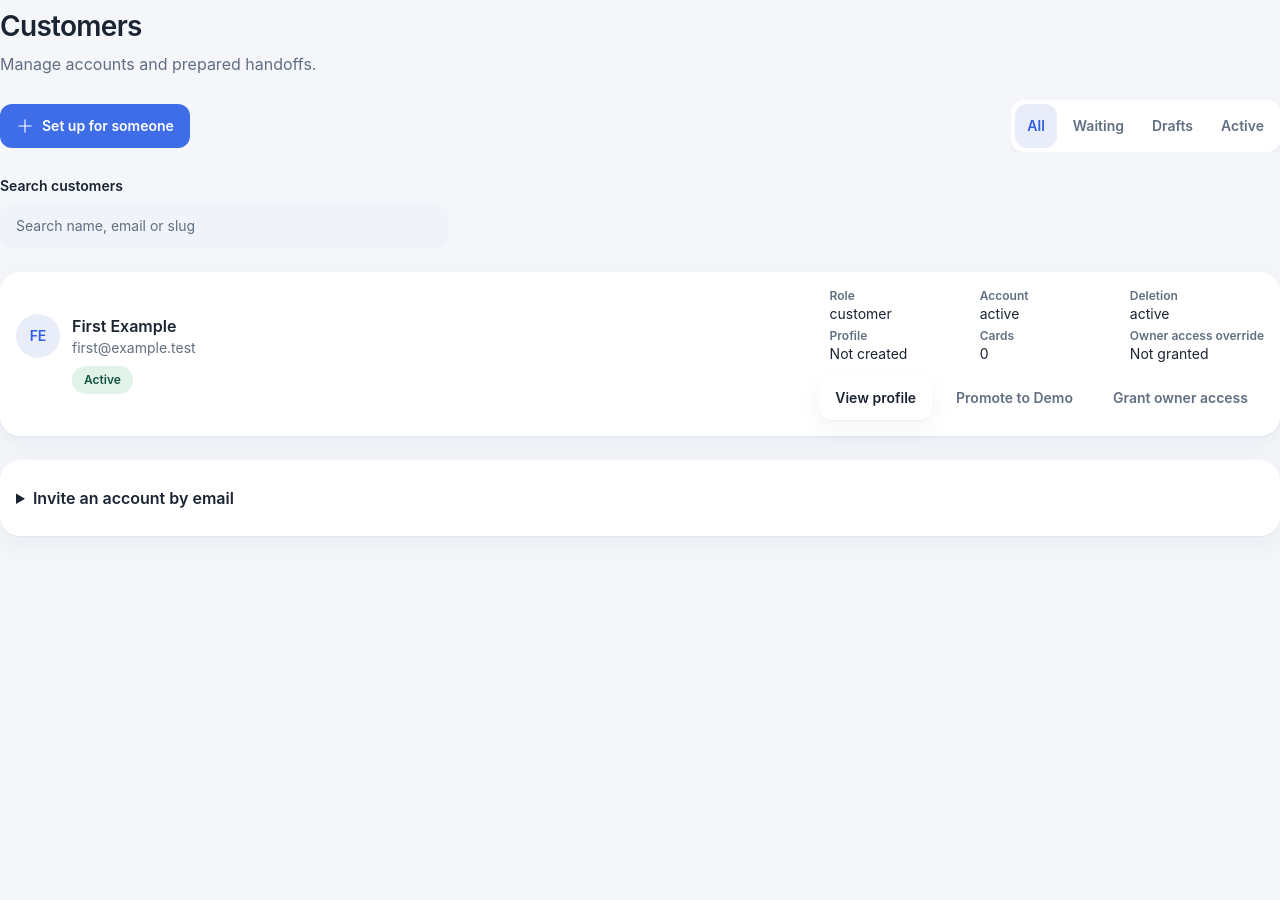
Test: paginated administrator account lists › shows an error when the owner access mutation is rejected
Click the button "Grant owner access": {"x": 1180, "y": 398} [1097,376,1264,420]
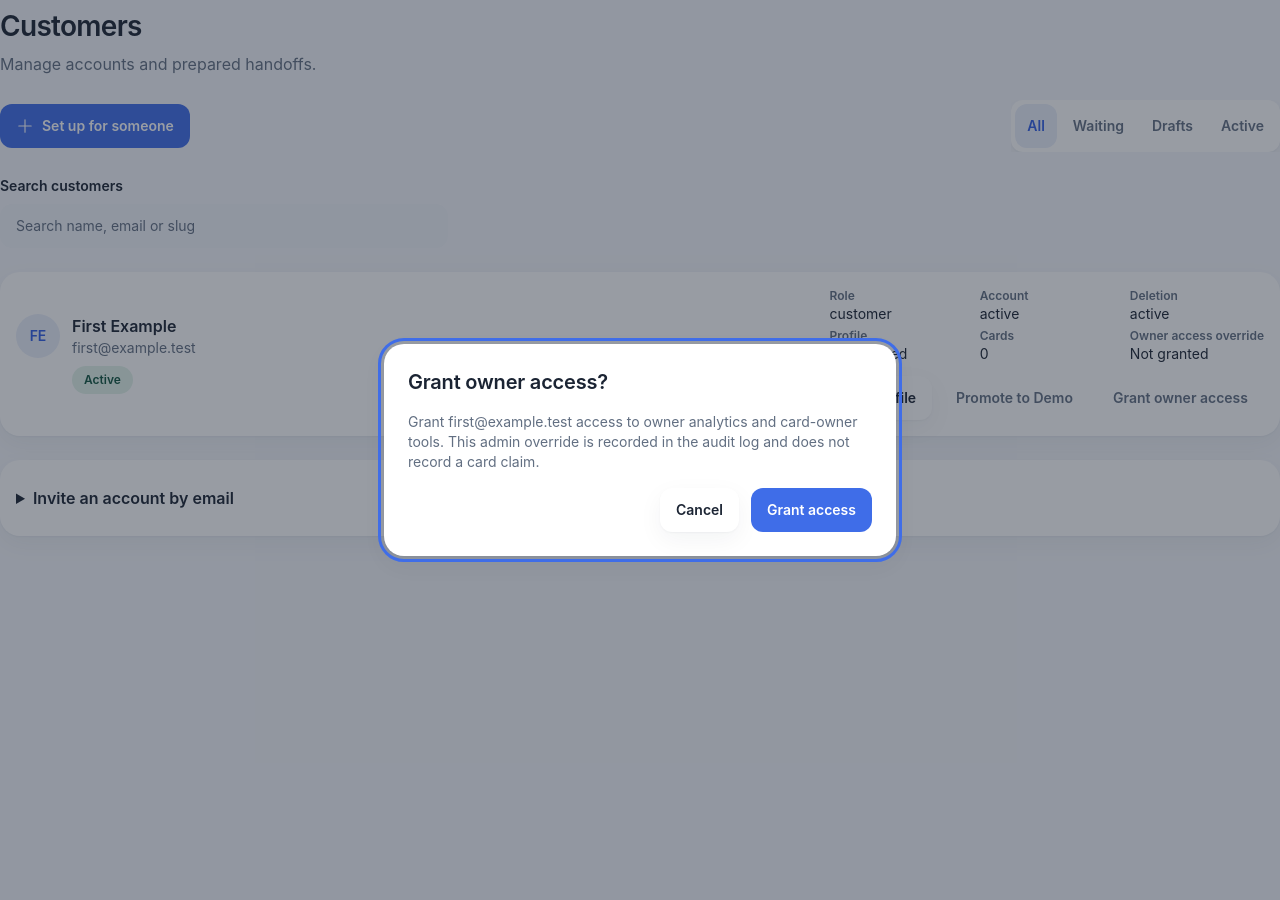
Click the button "Grant access": {"x": 812, "y": 510} [751,488,872,532]
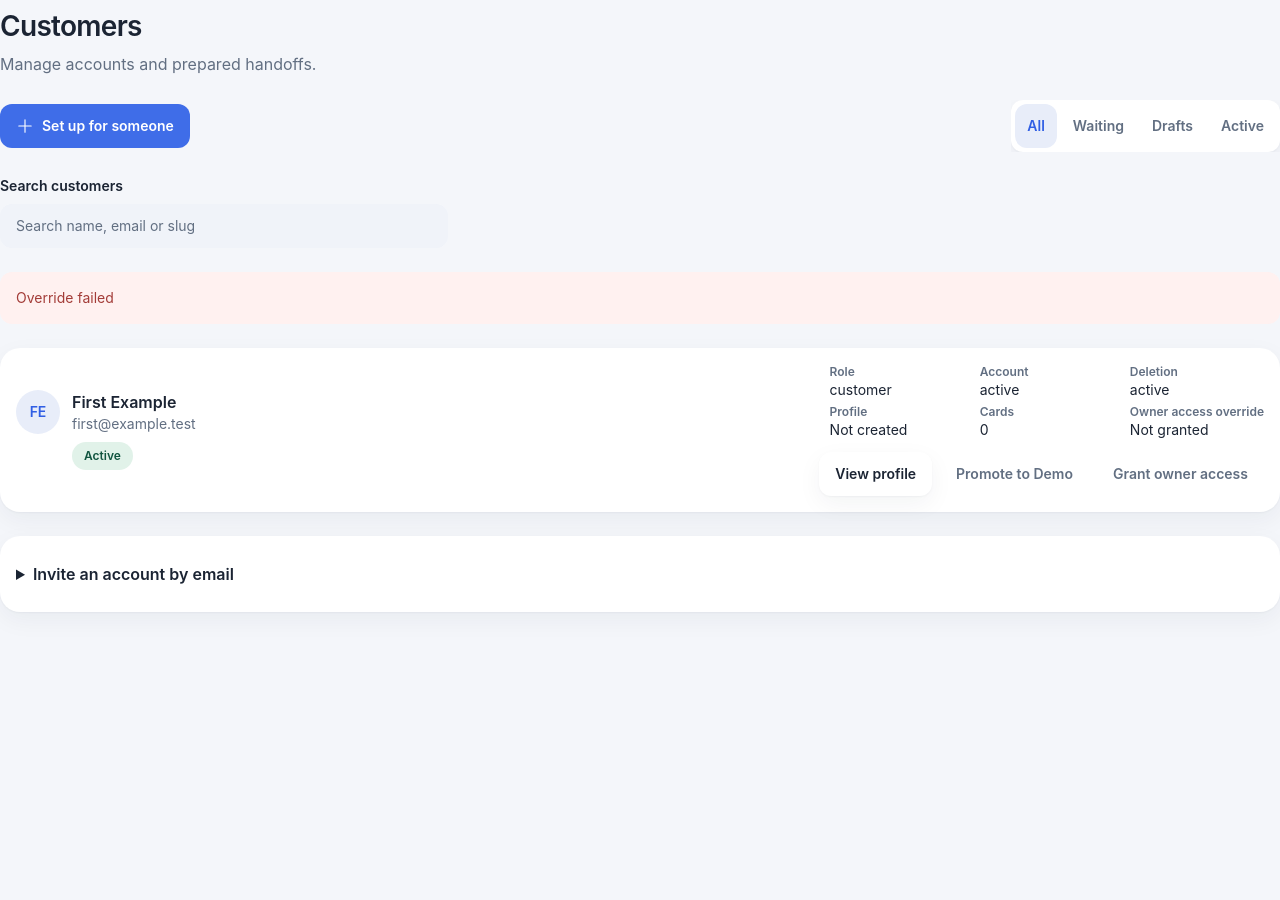
Expected: the message reads "Override failed", [16,289,114,306]
